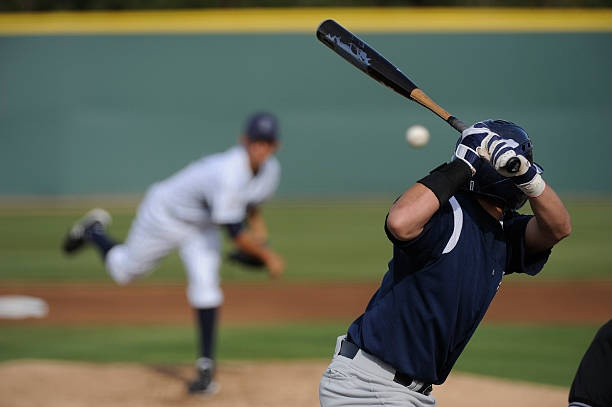bita: (316, 19, 468, 133)
